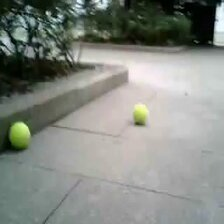tennis: (9, 121, 30, 149), (132, 103, 149, 124)
